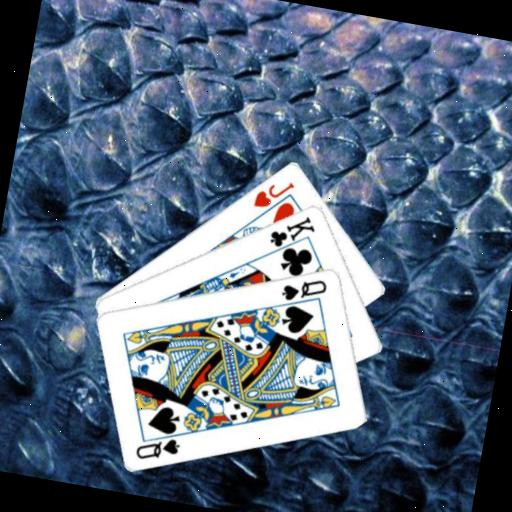JH: (250, 172, 297, 214)
KC: (264, 207, 319, 263)
QS: (277, 270, 330, 308), (131, 428, 183, 466)
